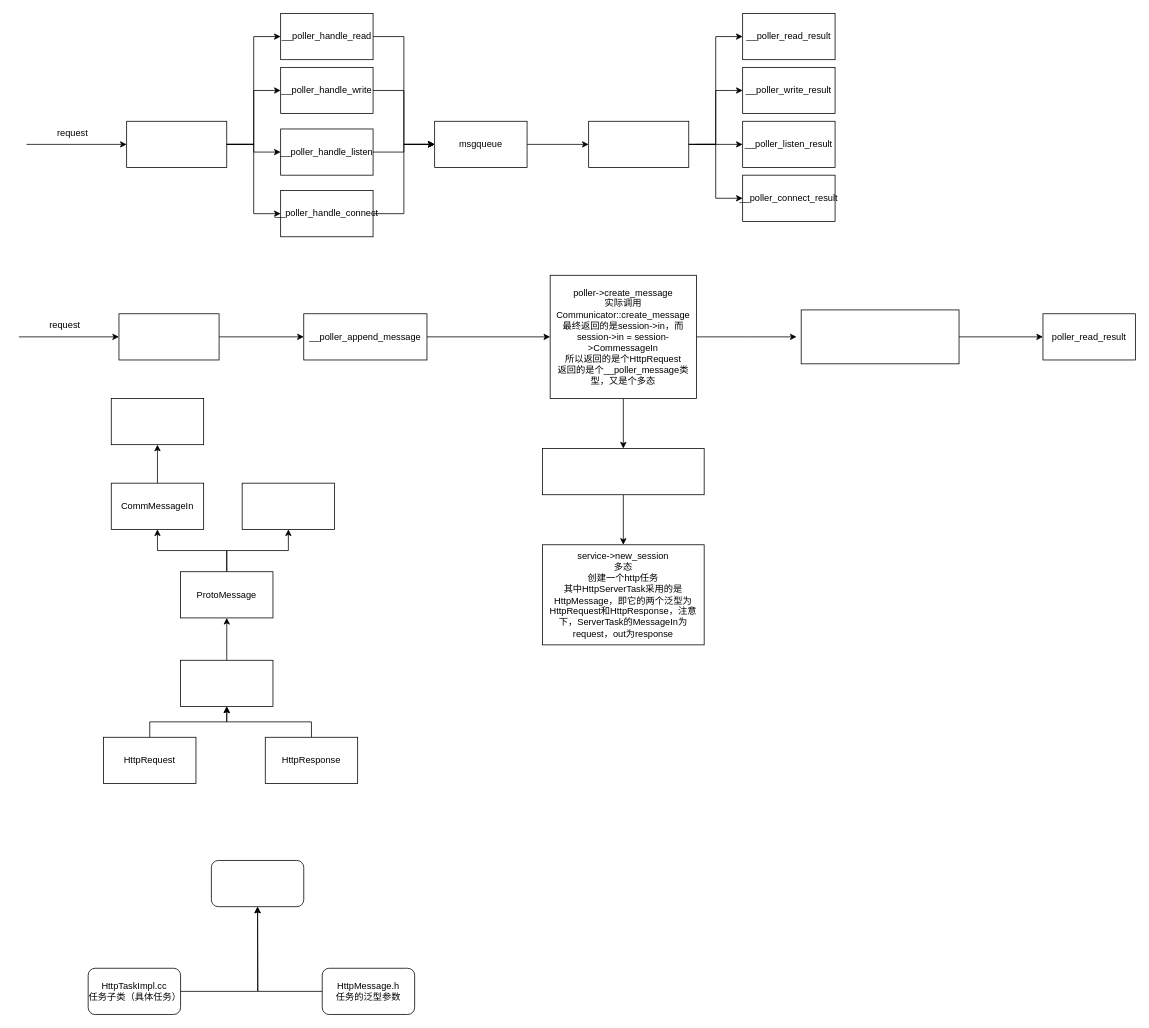
The diagram is 1149 pixels wide and 1028 high, and some of its shapes have lost their labels. The centre of each missing label's shape, as x and y in pixels:
__poller__handle_read 从socket读取数据: (x=168, y=336)
CommMessageOut: (x=288, y=505)
Communicator:: handler_thread_routine: (x=638, y=144)
Communicator::create_session: (x=623, y=471)
HttpMessage: (x=226, y=683)
poller->cb=Communicator::callback: (x=879, y=336)
poller:: __poller_thread_routine: (x=176, y=144)
poller_message_t: (x=157, y=421)
WFTask.h 任务基类: (x=257, y=883)
